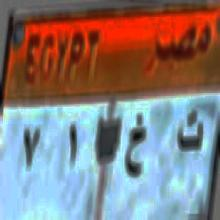1: (68, 122, 80, 174)
7: (21, 122, 40, 172)
khaa: (124, 110, 148, 181)
taa: (176, 103, 203, 158)
